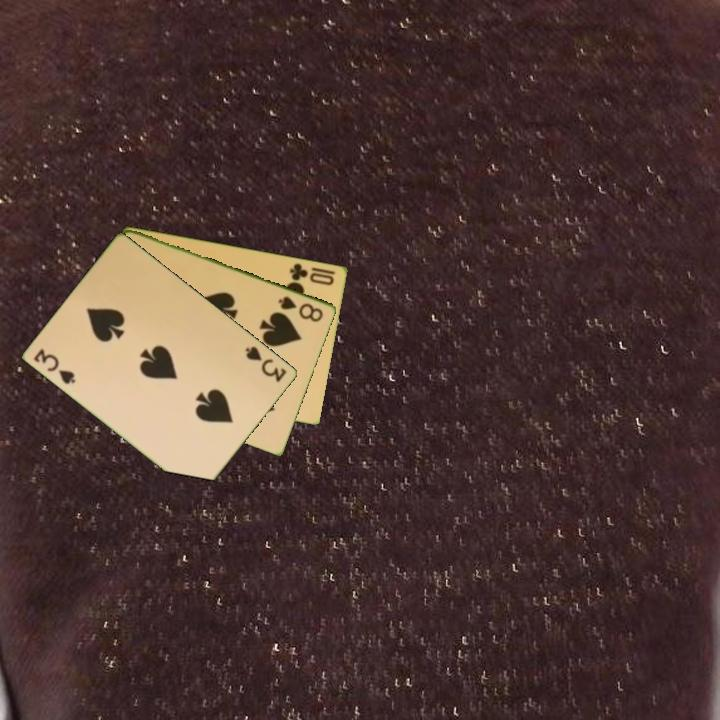10c: (286, 259, 337, 288)
3s: (242, 342, 290, 385), (30, 345, 79, 387)
8s: (275, 292, 326, 325)
